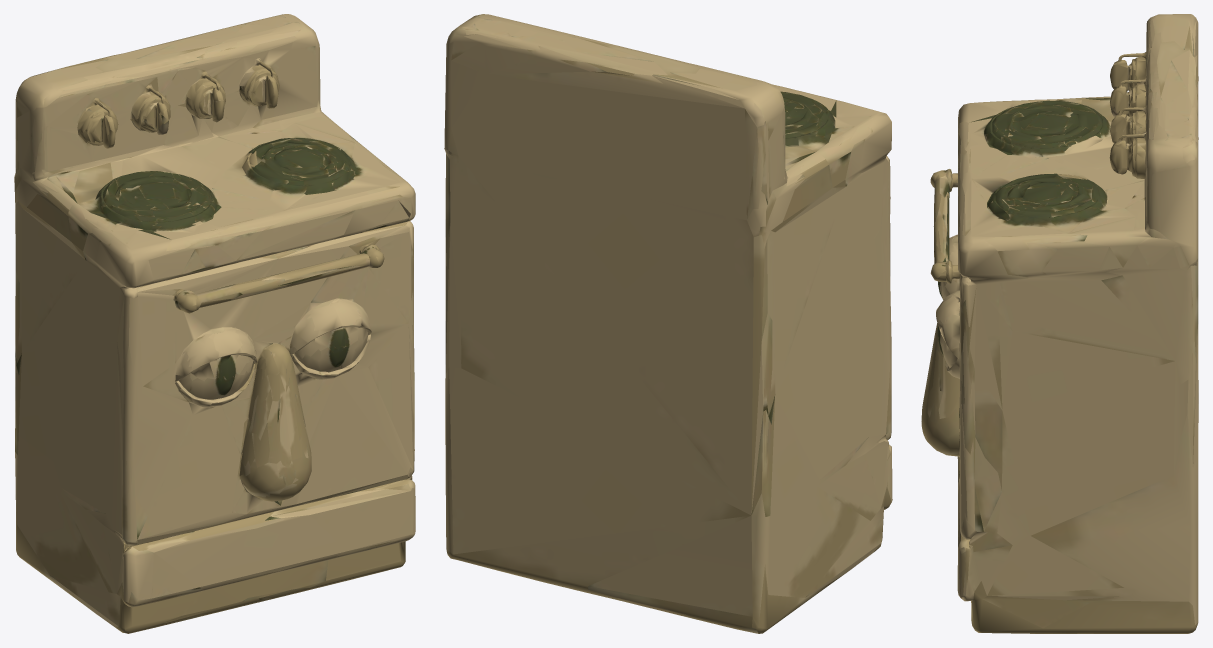
File: stove.glb
3 views of the same model, side by side, from view 1: azimuth 30°, elevation 25°; view 2: azimuth 150°, elevation 25°; view 3: azimuth 270°, elevation 25° (orthographic). The views are drawn at different scales.
Parts seen in each view (by area): view 1: Mesh_0; view 2: Mesh_0; view 3: Mesh_0.
Part boxes in pixels (x1=…): Mesh_0: x1=14, y1=14, x2=415, y2=633; Mesh_0: x1=444, y1=14, x2=892, y2=633; Mesh_0: x1=921, y1=14, x2=1198, y2=633.
Bounding box in the file's own units: 1.2 × 1.9 × 0.9757.
Materials: 1 (1 with a texture image).
